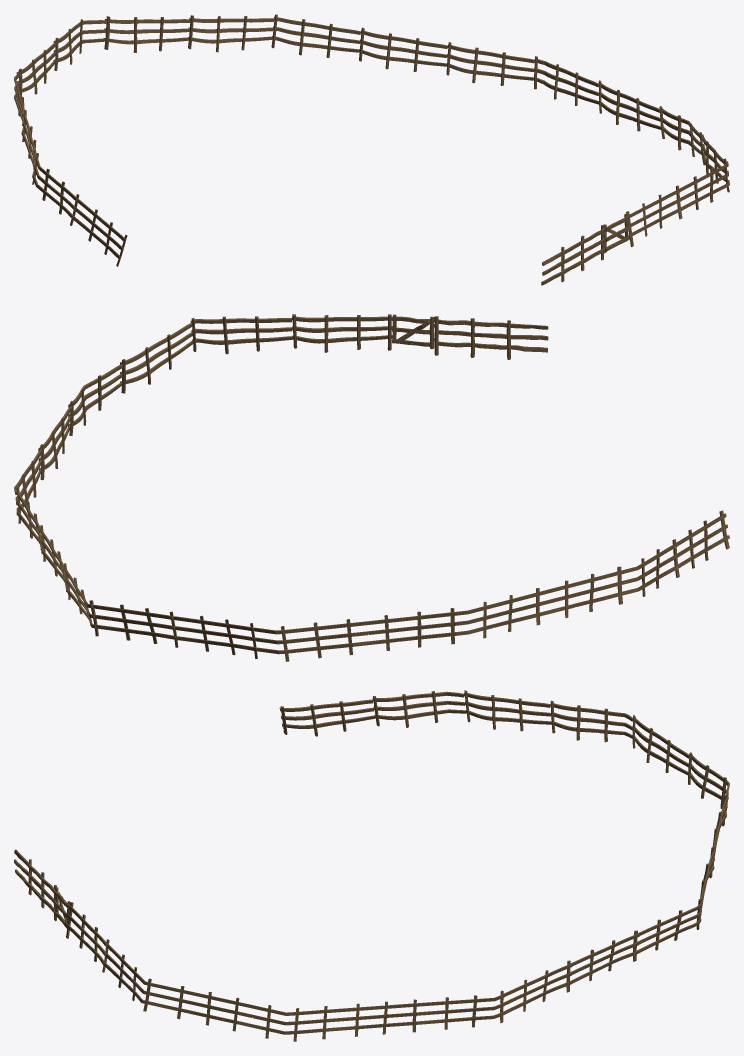
File: zaun.glb
The picture shows the model from 3 angles, top to bottom: view 1: azimuth 30°, elevation 25°; view 2: azimuth 150°, elevation 25°; view 3: azimuth 270°, elevation 25°; orthographic projection. The views are drawn at different scales.
Visible parts, largest first — view 1: Cube.050, Cylinder.028; view 2: Cube.050, Cylinder.028; view 3: Cube.050, Cylinder.028.
Part boxes in pixels (box(x1,y1,x2,y2)): Cube.050: box(14, 14, 729, 266); Cylinder.028: box(541, 211, 633, 285); Cube.050: box(14, 314, 729, 661); Cylinder.028: box(387, 314, 548, 359); Cube.050: box(64, 690, 729, 1041); Cylinder.028: box(14, 849, 73, 938).
Size of the model in its own units: 1.04 by 0.1448 by 1.1.
